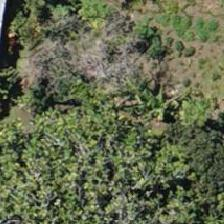coconut_tree: (86, 43, 176, 133), (116, 58, 206, 148)
